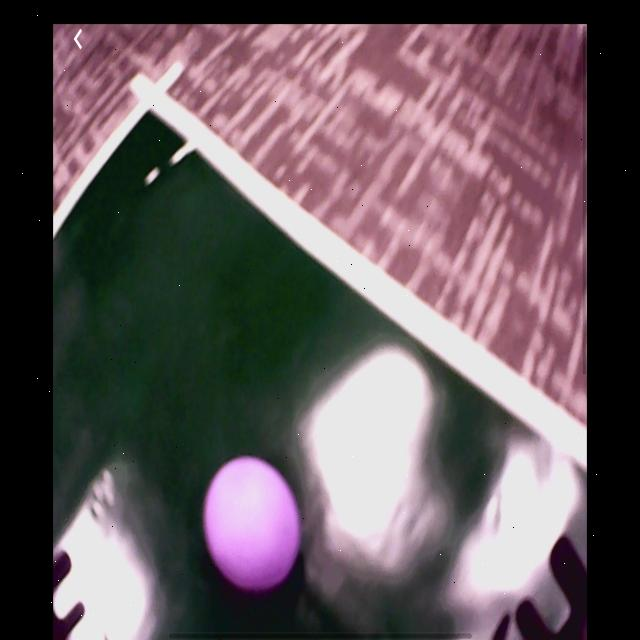ball: (205, 455, 301, 600)
